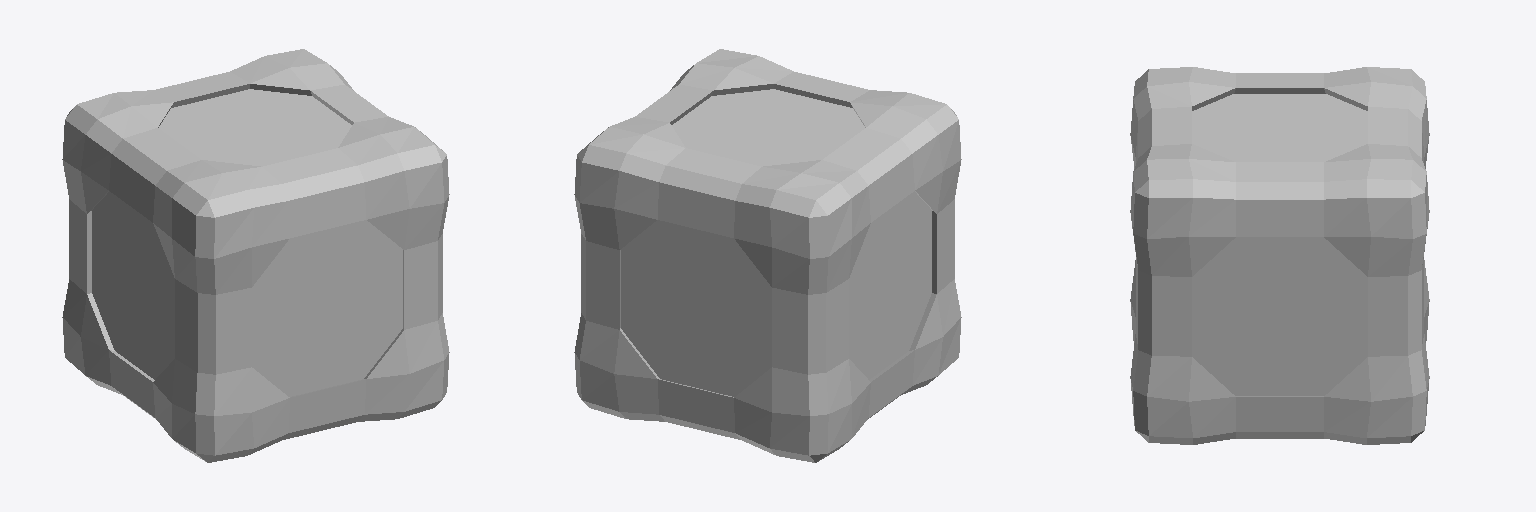
File: Crate.obj
3 views of the same model, side by side, from view 1: azimuth 30°, elevation 25°; view 2: azimuth 150°, elevation 25°; view 3: azimuth 270°, elevation 25° (orthographic).
Bounding box in the file's own units: 1.09 × 1.09 × 1.09.